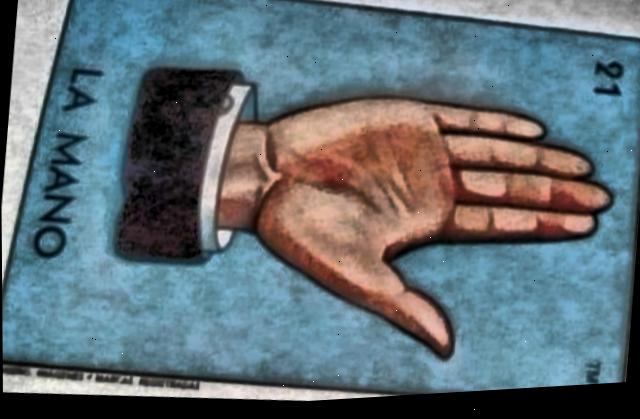La Mano: (2, 0, 640, 398)
